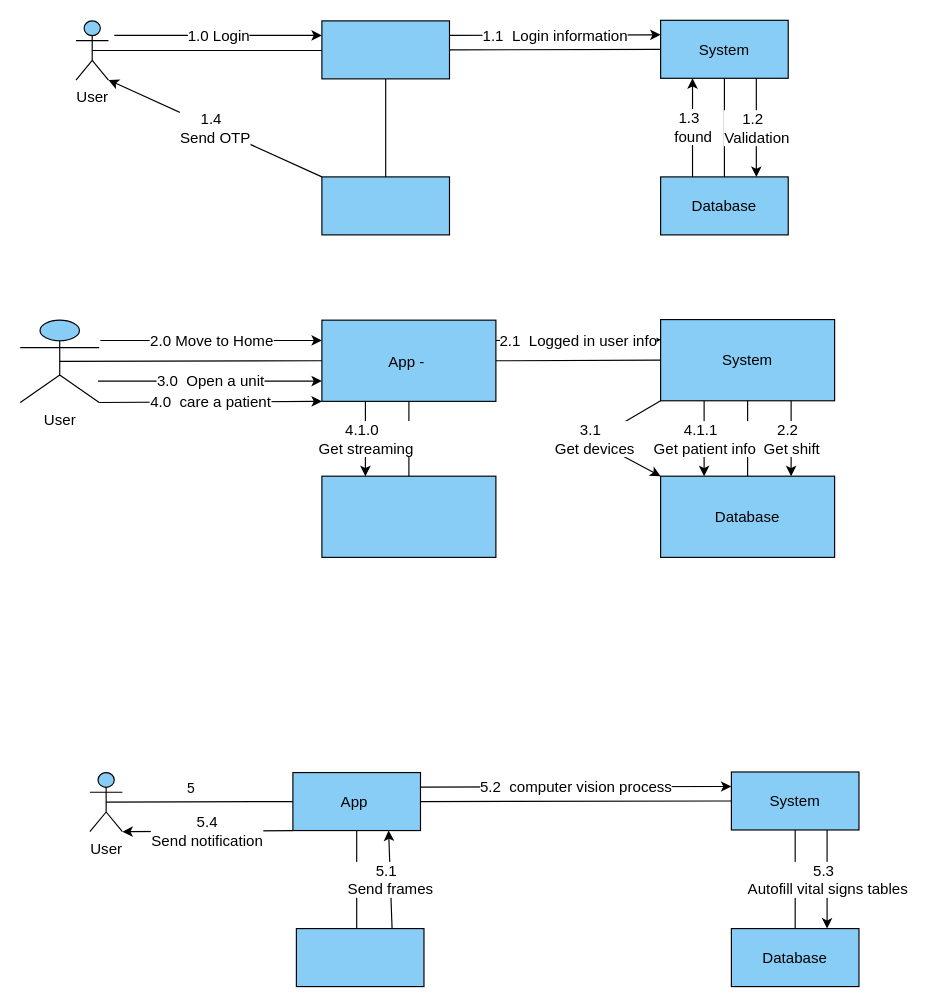
The diagram is 927 pixels wide and 1007 high, and some of its shapes have lost their labels. The shapes that lost their labels are listed below. From the top down, each one's centre as x and y in pixels, then its label:
At (x=385, y=49): "App - Login".
At (x=385, y=205): "Firebase".
At (x=408, y=516): "Esp-Cam".
At (x=359, y=957): "ESP32-cam".
